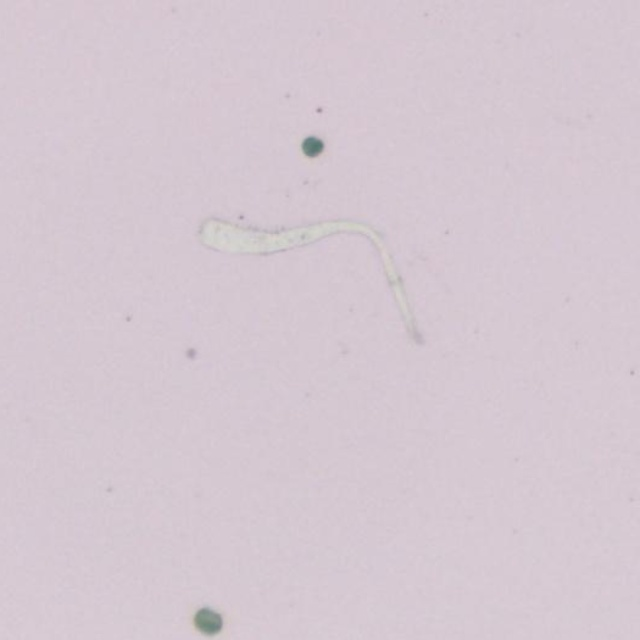non_viable: (194, 607, 222, 634), (301, 137, 323, 156)
